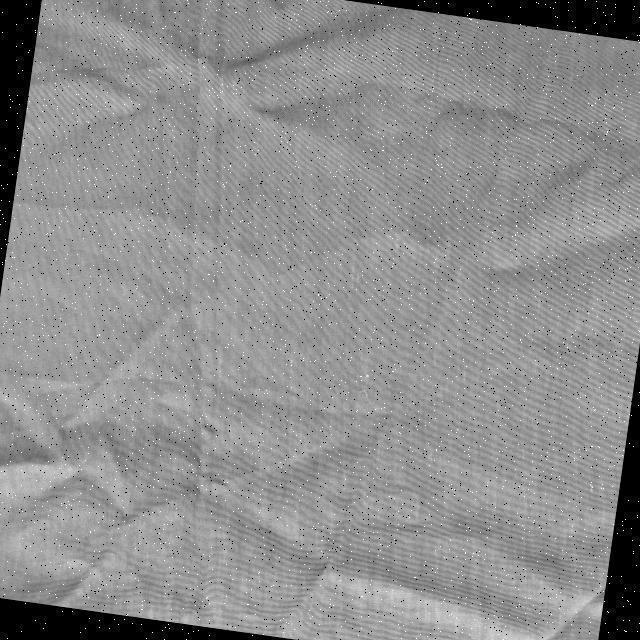broken_yarn: (221, 11, 360, 73)
